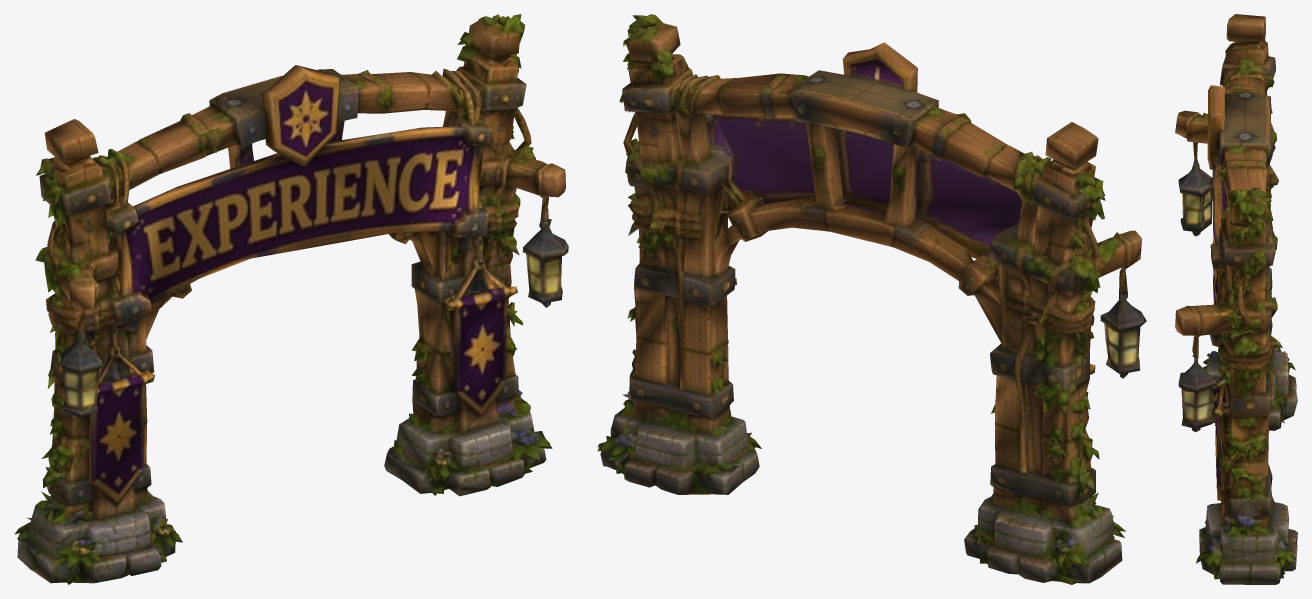
File: arch-alt.glb
3 views of the same model, side by side, from view 1: azimuth 30°, elevation 25°; view 2: azimuth 150°, elevation 25°; view 3: azimuth 270°, elevation 25° (orthographic). The views are drawn at different scales.
Visible parts, largest first — view 1: Mesh1.0; view 2: Mesh1.0; view 3: Mesh1.0.
Boxes of the visible parts, x1=… form: Mesh1.0: x1=14, y1=14, x2=568, y2=584; Mesh1.0: x1=597, y1=14, x2=1146, y2=584; Mesh1.0: x1=1175, y1=14, x2=1297, y2=584.
Bounding box in the file's own units: 1.9 × 1.66 × 0.4642.
1 material, 1 textured.
